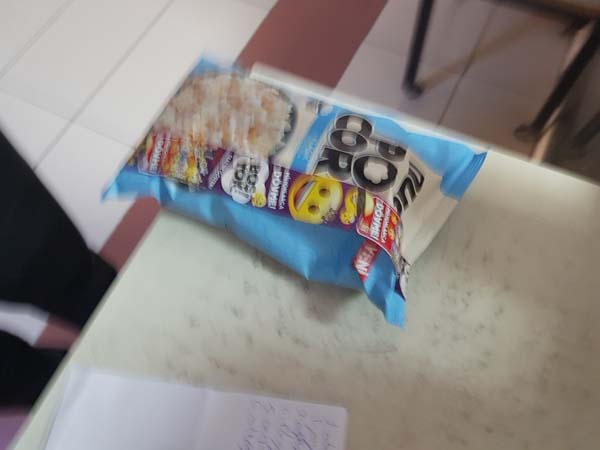popcorn: (117, 54, 494, 333)
